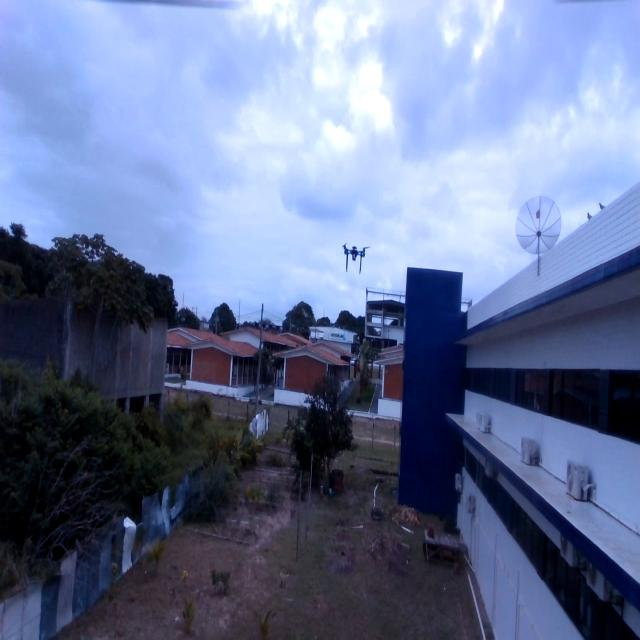-uav-: (332, 230, 376, 284)
